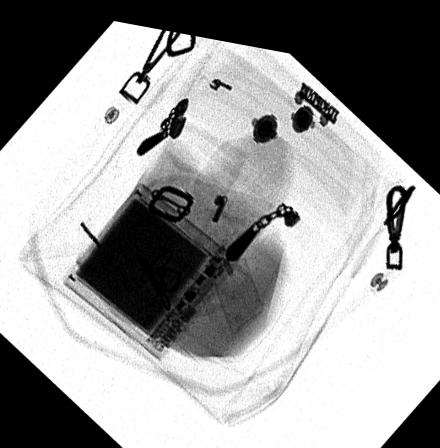Powerbank: (60, 175, 242, 354)
